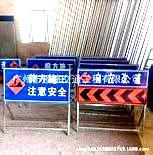sign: (4, 69, 69, 101), (79, 70, 147, 88)
